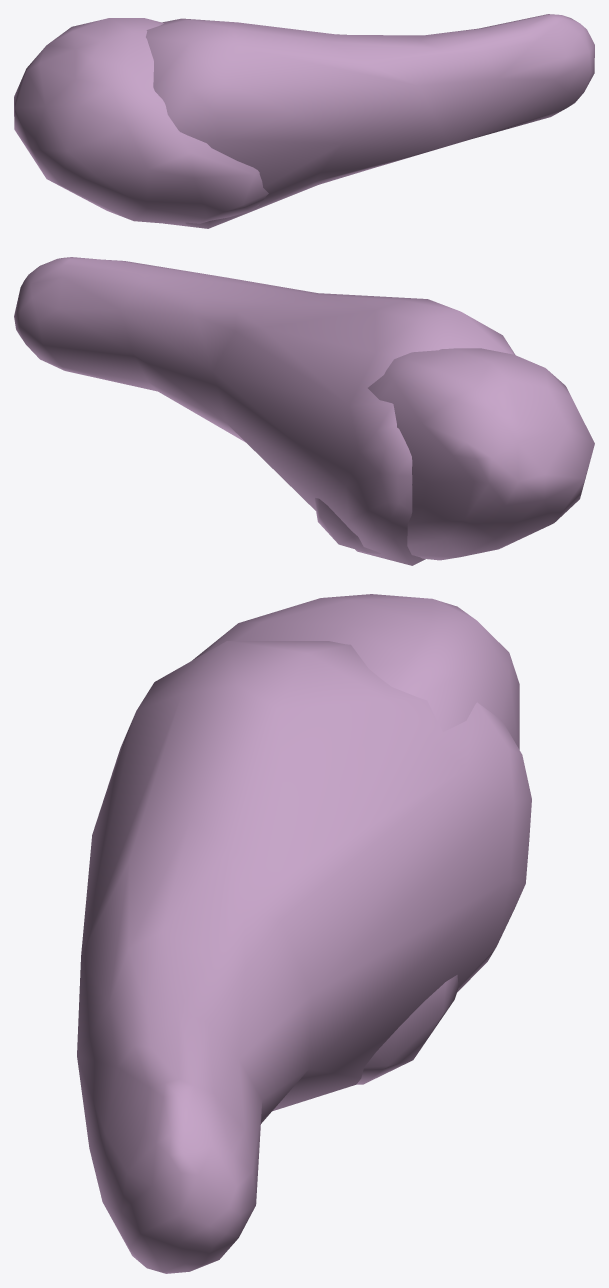
3 views of the same model, one above another, from view 1: azimuth 30°, elevation 25°; view 2: azimuth 150°, elevation 25°; view 3: azimuth 270°, elevation 25° (orthographic). The views are drawn at different scales.
Visible parts, largest first — view 1: 左侧上丘; view 2: 左侧上丘; view 3: 左侧上丘.
Boxes of the visible parts, <box> form: 左侧上丘: <box>14,14,594,228</box>; 左侧上丘: <box>14,257,594,565</box>; 左侧上丘: <box>77,594,531,1273</box>.
Bounding box in the file's own units: 0.0251 × 0.00953 × 0.00941.
